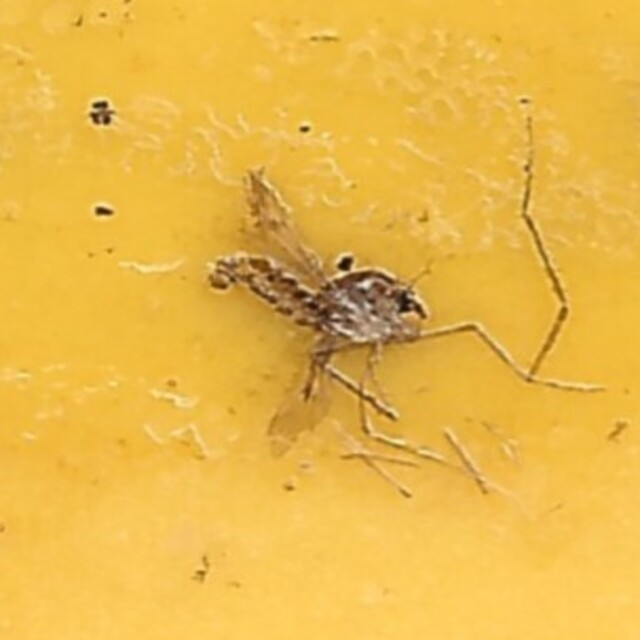Nematocera: (211, 183, 429, 457)
